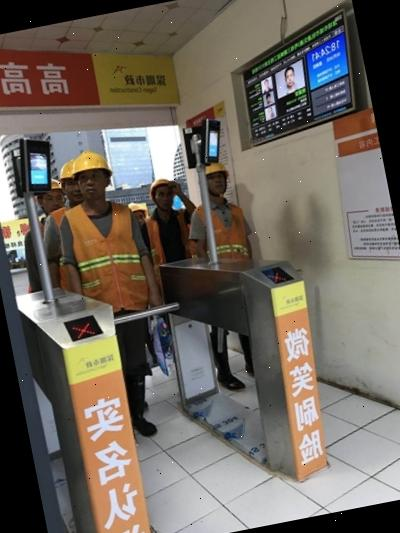helmet: (70, 146, 114, 182), (146, 171, 178, 194), (200, 156, 229, 180), (55, 158, 79, 184)
wear: (58, 197, 152, 306), (194, 198, 254, 263)
